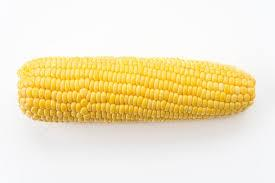non-mango: (16, 55, 256, 123)
